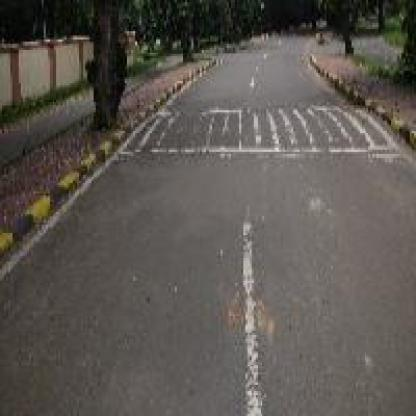Speed Bump: (117, 106, 393, 156)
